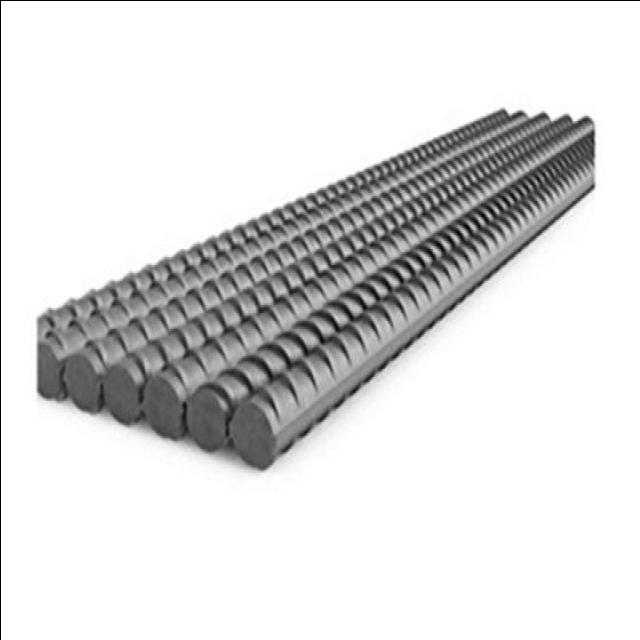Rebar: (227, 389, 279, 483), (181, 383, 239, 457), (63, 341, 112, 414), (109, 363, 151, 428), (143, 371, 178, 448), (37, 333, 63, 406)
